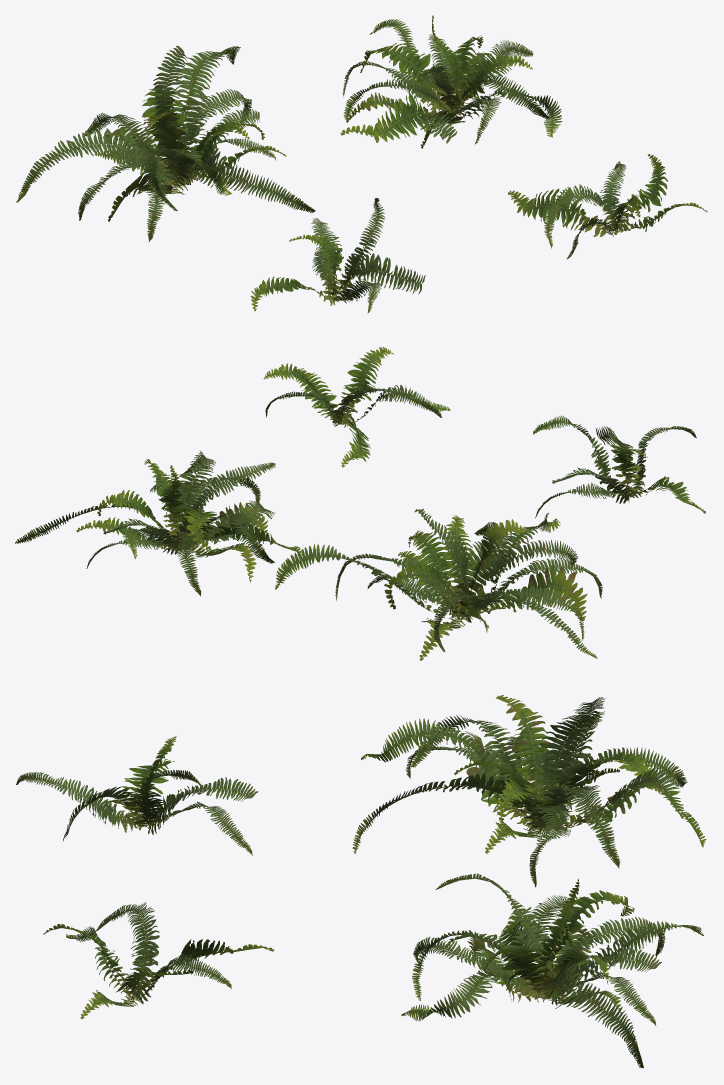
Rendered from sunburst-fern-standard.glb.
3 renders of one model, top to bottom at view 1: azimuth 30°, elevation 25°; view 2: azimuth 150°, elevation 25°; view 3: azimuth 270°, elevation 25°, orthographic. The views are drawn at different scales.
Visible parts, largest first — view 1: fern_02_b, fern_02_c, fern_02_a, fern_02_d; view 2: fern_02_b, fern_02_c, fern_02_d, fern_02_a; view 3: fern_02_b, fern_02_c, fern_02_a, fern_02_d.
Boxes of the visible parts, x1=… form: fern_02_b: x1=16, y1=45, x2=315, y2=241; fern_02_c: x1=340, y1=15, x2=562, y2=148; fern_02_a: x1=250, y1=198, x2=425, y2=313; fern_02_d: x1=508, y1=154, x2=707, y2=259; fern_02_b: x1=275, y1=508, x2=602, y2=660; fern_02_c: x1=15, y1=450, x2=302, y2=596; fern_02_d: x1=263, y1=346, x2=450, y2=467; fern_02_a: x1=533, y1=415, x2=705, y2=518; fern_02_b: x1=352, y1=695, x2=706, y2=887; fern_02_c: x1=401, y1=873, x2=703, y2=1068; fern_02_a: x1=16, y1=736, x2=258, y2=855; fern_02_d: x1=43, y1=902, x2=273, y2=1019.
Bounding box in the file's own units: 1.97 × 0.4277 × 1.72.
Materials: 1 (1 with a texture image).
